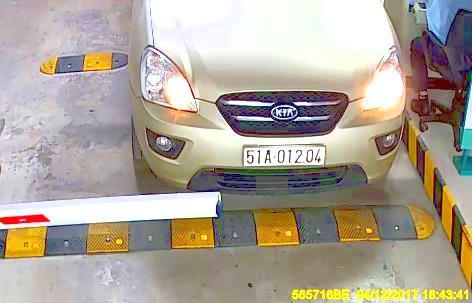License_Plate: (242, 142, 329, 173)
